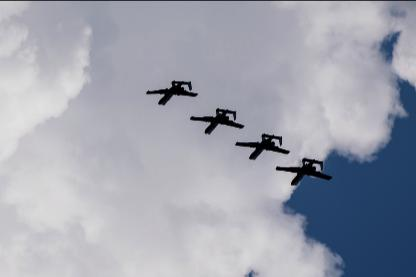A10: (276, 158, 334, 186), (191, 107, 246, 134), (236, 134, 292, 160), (147, 80, 199, 105)
